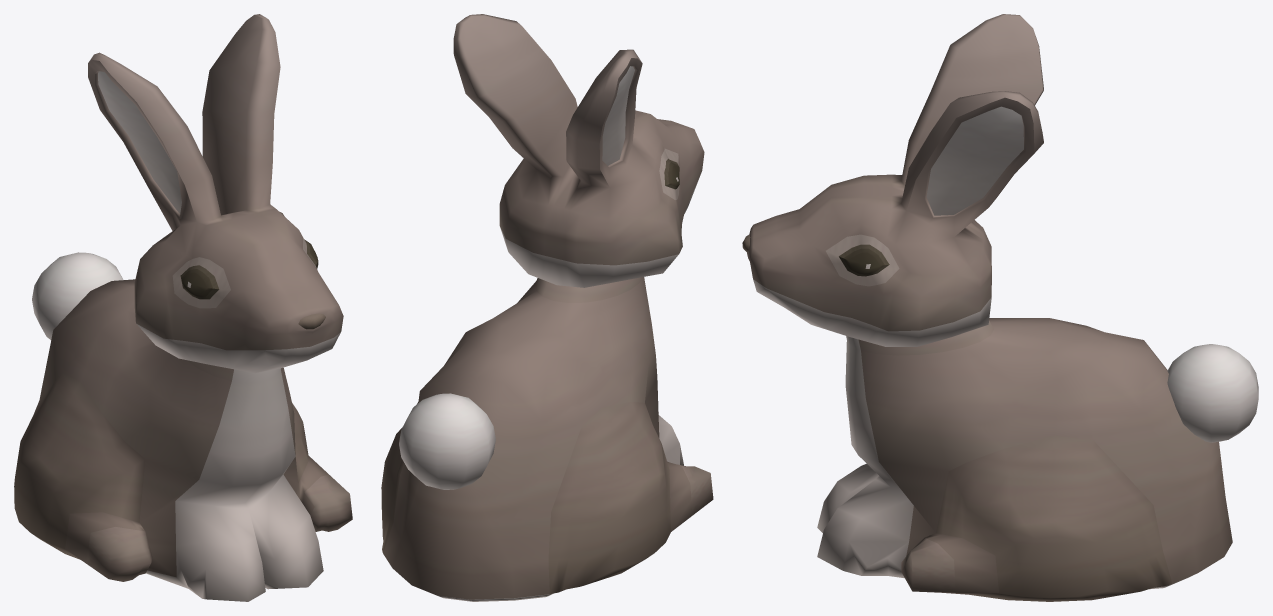
The model's file is rabbit.fbx.
3 renders of one model, left to right at view 1: azimuth 30°, elevation 25°; view 2: azimuth 150°, elevation 25°; view 3: azimuth 270°, elevation 25°, orthographic. The views are drawn at different scales.
Visible parts, largest first — view 1: Rabbit; view 2: Rabbit; view 3: Rabbit.
Part boxes in pixels (x1,y1,x2,y2): Rabbit: [14, 14, 352, 601]; Rabbit: [381, 14, 713, 601]; Rabbit: [742, 14, 1258, 601].
Size of the model in its own units: 3.14 by 5.75 by 5.33.
